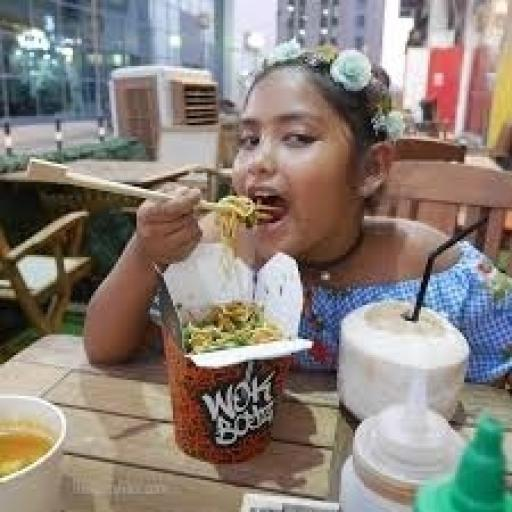eating: (80, 39, 510, 391)
